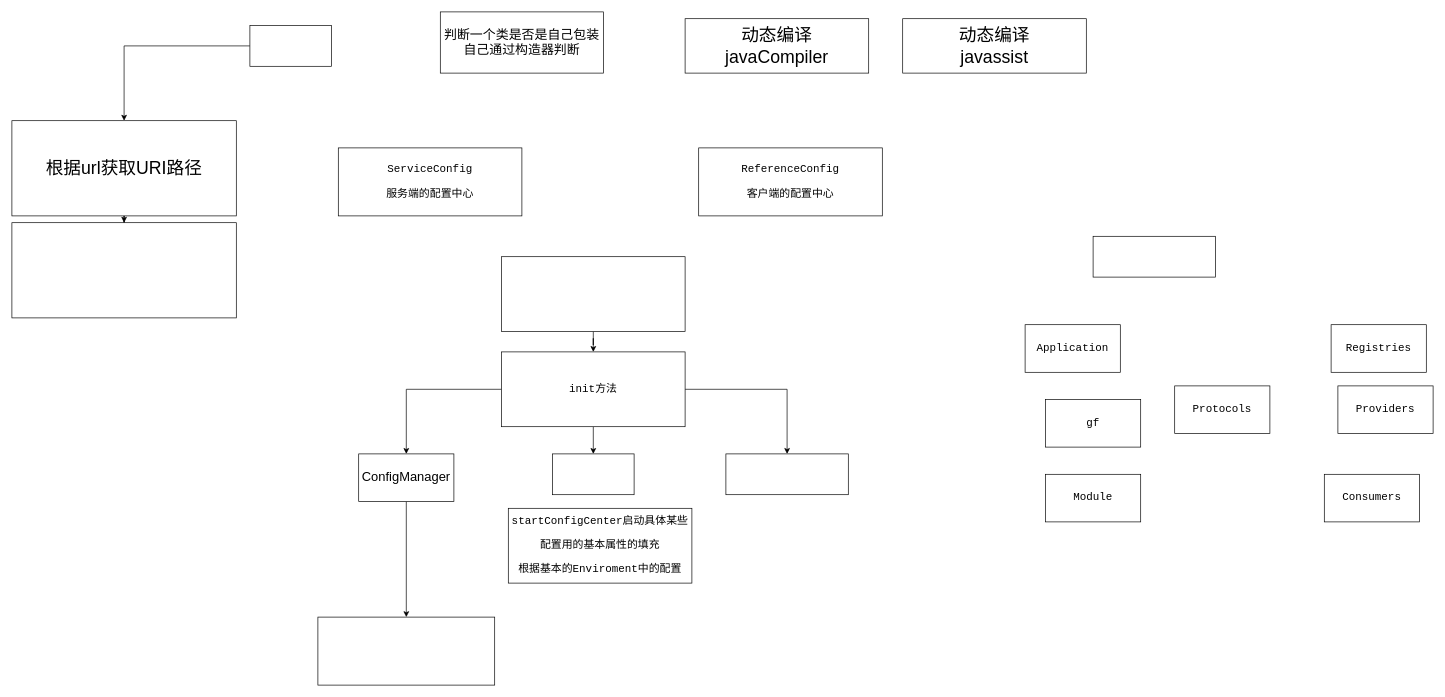
Image size: 1445x697. Some labels were removed from this diagram. Each missing label, with the centre of its shape:
"ConfigCenterConfig 配置中心" goes at point 1154,256.
"DubboBootstrap 启动类（单例）" goes at point 593,294.
"Environment" goes at point 593,474.
"refreshAll 将所有的manage中的基本配置都进行填充" goes at point 406,650.
"ServiceRepository" goes at point 786,474.
"SPi" goes at point 290,45.
"获取到文件名下的类, 通过properties 的方式 定义类的名称,尽量使用 接口来定义方法的使用" goes at point 123,270.
